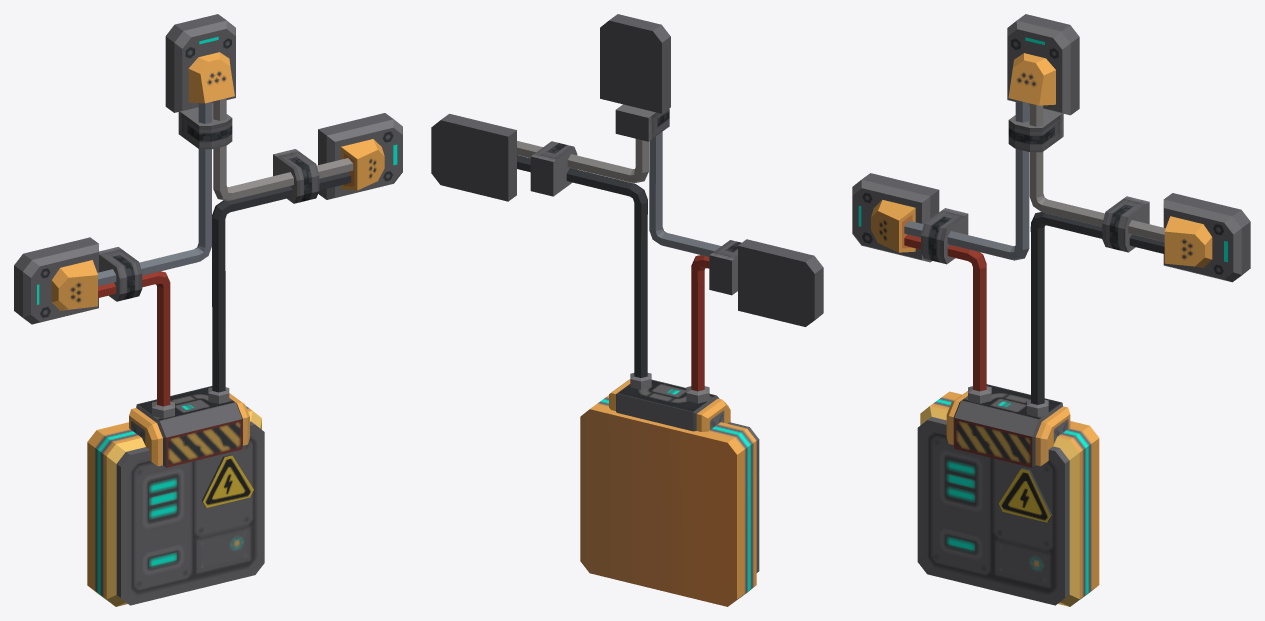
File: SM_Prop_Greebles_19.fbx
3 views of the same model, side by side, from view 1: azimuth 30°, elevation 25°; view 2: azimuth 150°, elevation 25°; view 3: azimuth 330°, elevation 25° (orthographic). The views are drawn at different scales.
Parts seen in each view (by area): view 1: SM_Prop_Greebles_19; view 2: SM_Prop_Greebles_19; view 3: SM_Prop_Greebles_19.
Part boxes in pixels (<box>): SM_Prop_Greebles_19: <box>14,14,402,606</box>; SM_Prop_Greebles_19: <box>431,14,823,606</box>; SM_Prop_Greebles_19: <box>852,14,1250,606</box>.
Bounding box in the file's own units: 187 × 259 × 27.77.
